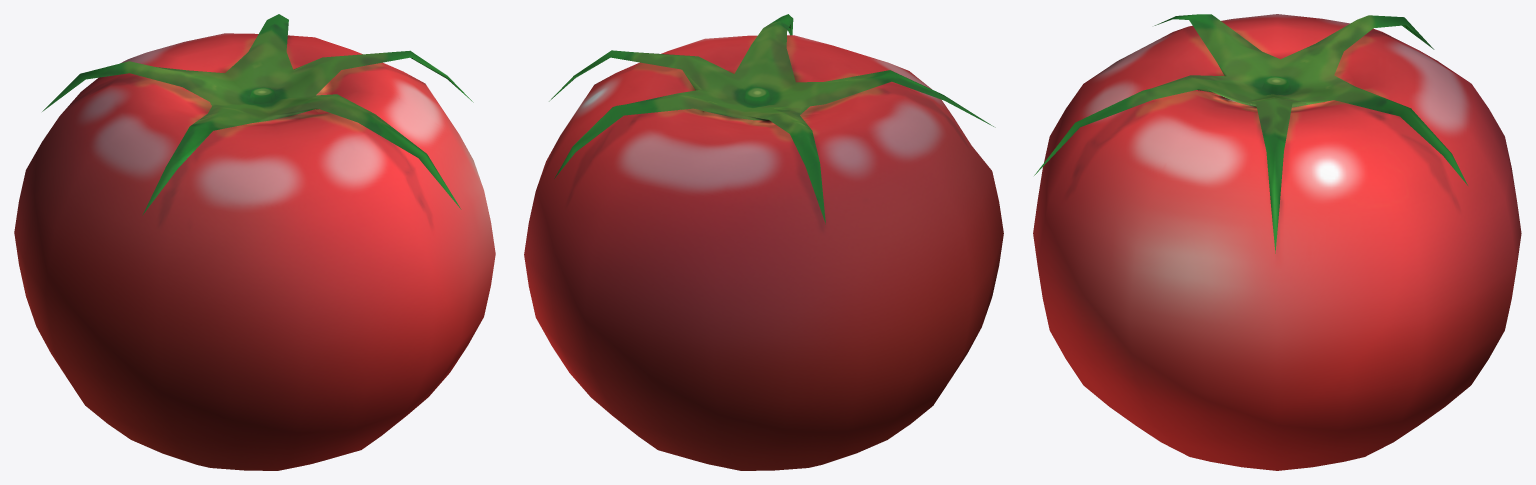
Rendered from Tomato.fbx.
3 views of the same model, side by side, from view 1: azimuth 30°, elevation 25°; view 2: azimuth 150°, elevation 25°; view 3: azimuth 270°, elevation 25° (orthographic). The views are drawn at different scales.
Visible parts, largest first — view 1: tomato; view 2: tomato; view 3: tomato.
Part boxes in pixels (<box>): tomato: <box>14,14,495,470</box>; tomato: <box>524,14,1003,470</box>; tomato: <box>1033,14,1521,470</box>.
Size of the model in its own units: 15.26 by 12.75 by 14.52.
